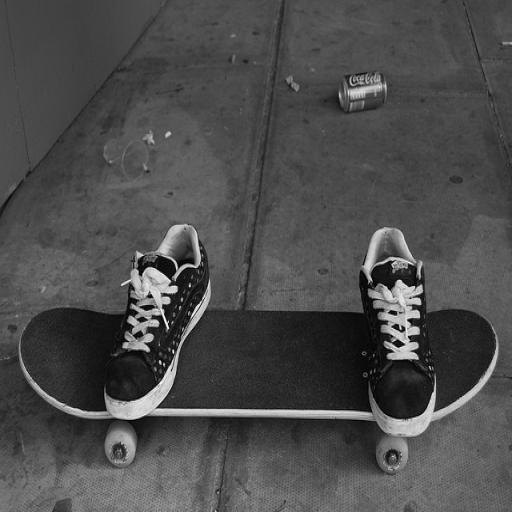shoe: (104, 224, 210, 420), (359, 227, 436, 437)
